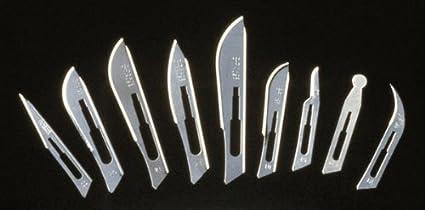Surgical blade: (104, 36, 170, 191), (52, 63, 123, 197), (13, 89, 91, 200), (351, 82, 415, 196), (164, 39, 208, 191), (214, 14, 250, 192), (249, 61, 292, 181), (287, 63, 333, 172)
